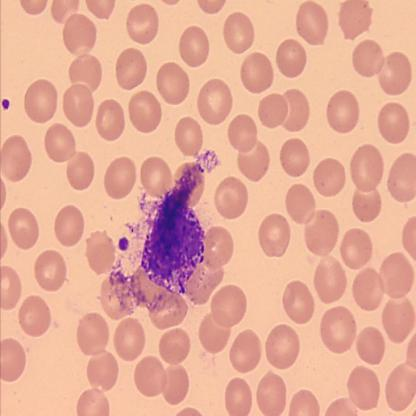Basophil: (137, 194, 206, 297)
